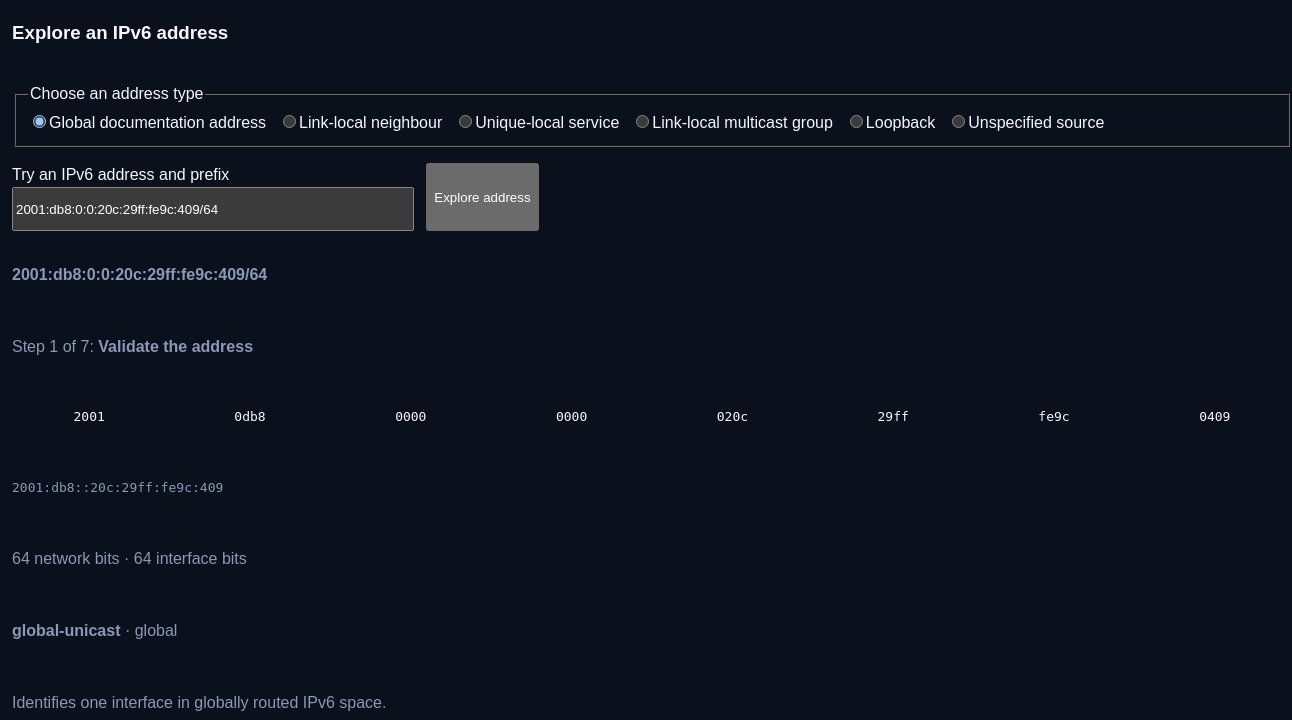
Test: Ipv6AddressExplorer › keeps the last valid view and explains invalid direct input
This screenshot has width=1292, height=720.
Replace the text in the field labelled "Try an IPv6 address and prefix" with "2001::db8::1/64" at (213, 209), box [12, 187, 414, 231]
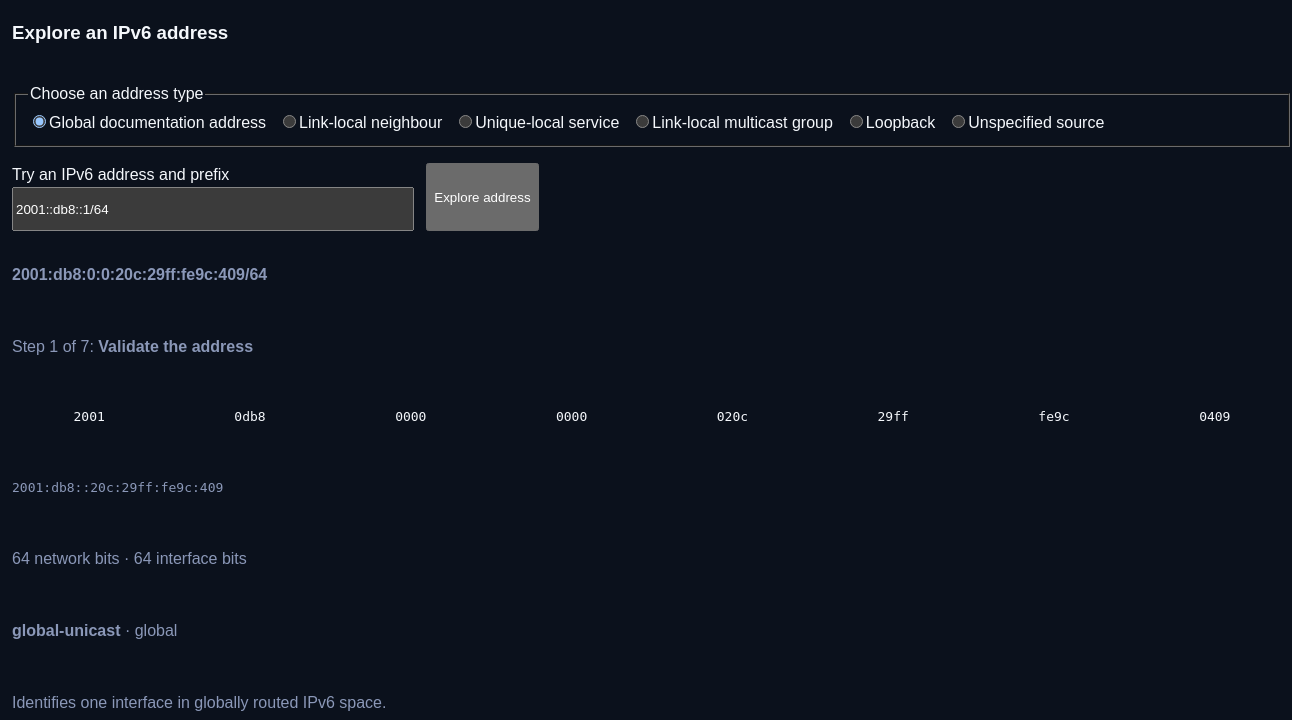
Click the button "Explore address".
click(482, 197)  # box [426, 163, 539, 231]
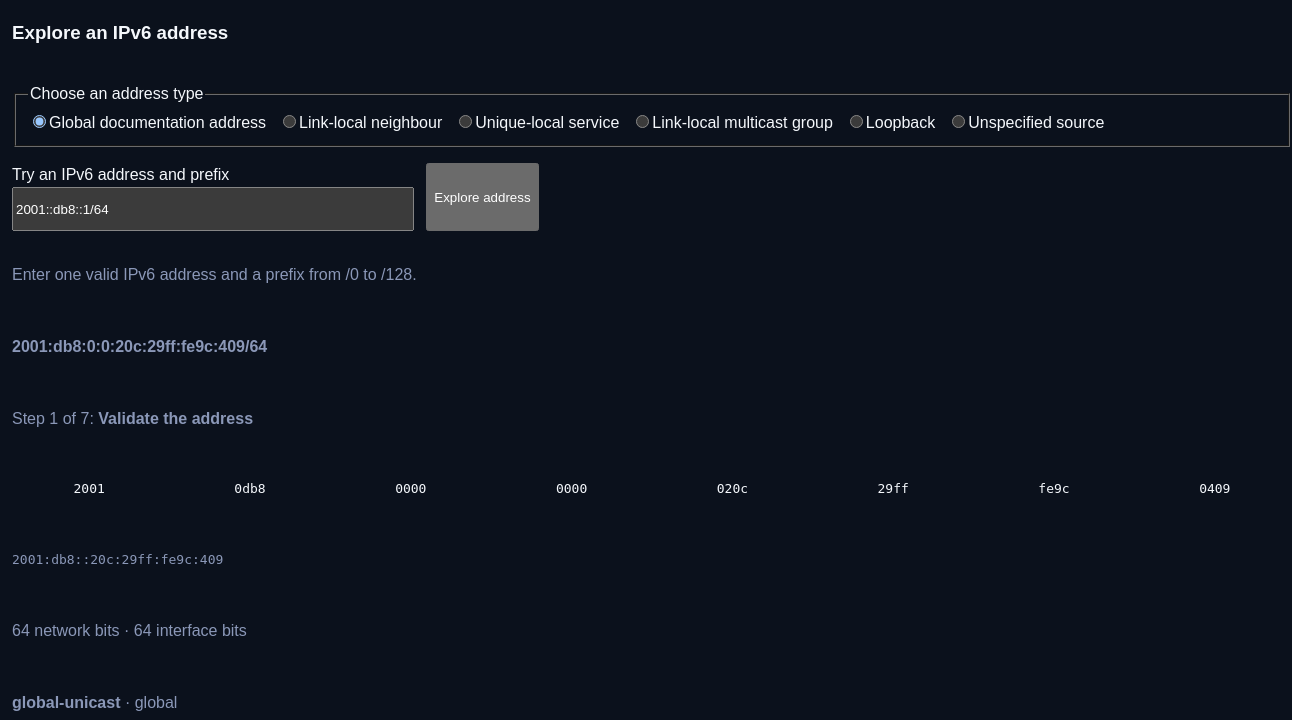
Expected: the text "2001:db8::20c:29ff:fe9c:409" is shown, [12, 552, 223, 567]
Expected: the message "Enter one valid IPv6 address and a prefix from /0 to /128." is shown, [12, 266, 417, 283]
